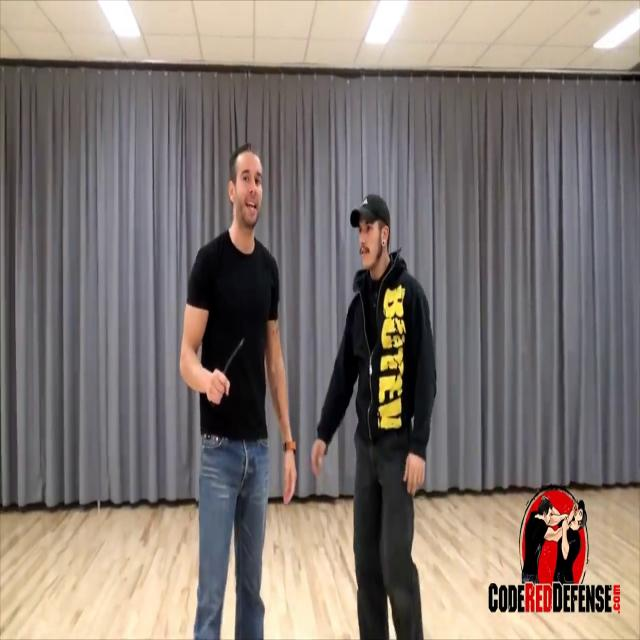Knife_Handle: (205, 335, 247, 404)
